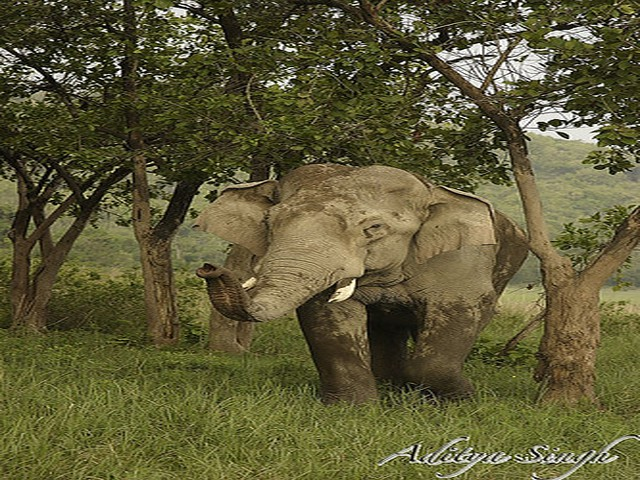Elephant: (200, 159, 531, 411)
